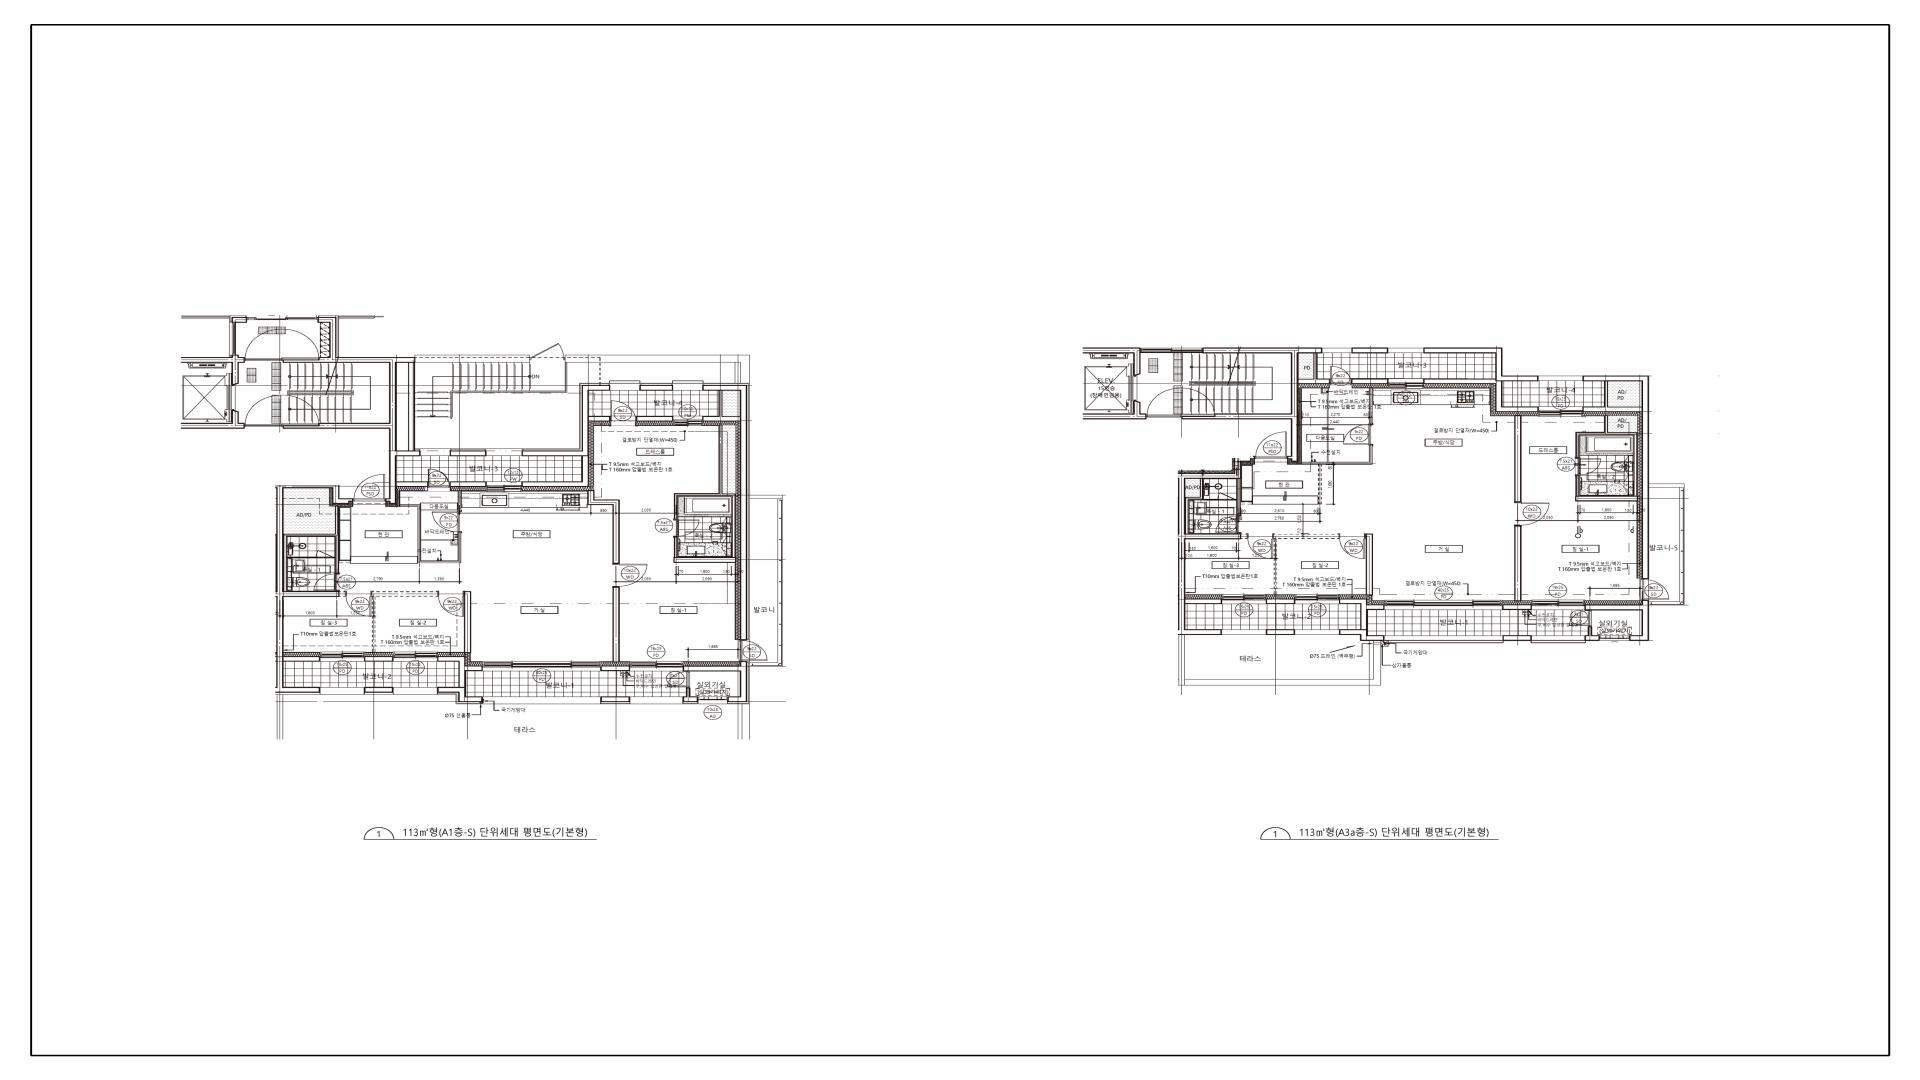door: (245, 328, 282, 361), (245, 396, 284, 427), (1146, 388, 1182, 419), (612, 563, 647, 588), (1255, 431, 1287, 459), (353, 473, 385, 501), (1514, 502, 1549, 526), (345, 591, 372, 617), (438, 591, 464, 617), (1338, 534, 1366, 559), (1342, 423, 1373, 446), (1247, 534, 1274, 559), (611, 401, 637, 426), (738, 640, 767, 662), (431, 512, 462, 533), (530, 343, 566, 360), (1642, 579, 1669, 600), (1215, 516, 1242, 534), (674, 518, 699, 538), (1576, 458, 1602, 476), (314, 572, 340, 591), (1329, 365, 1352, 385), (429, 468, 451, 488), (667, 671, 690, 688), (1568, 611, 1592, 626), (1217, 492, 1236, 501), (315, 550, 335, 558)
wall: (282, 316, 530, 504), (1582, 376, 1685, 641), (276, 485, 353, 692), (1182, 347, 1321, 462), (1178, 456, 1255, 636), (703, 385, 748, 641), (674, 425, 736, 563), (522, 385, 609, 456), (750, 495, 783, 667), (564, 355, 750, 384), (1576, 415, 1638, 501), (284, 506, 339, 591), (1302, 444, 1373, 505), (372, 592, 438, 653), (1424, 378, 1539, 413), (1274, 534, 1338, 595), (1424, 348, 1539, 381), (400, 504, 462, 563), (683, 662, 748, 703), (587, 491, 620, 563), (522, 456, 589, 487), (181, 355, 245, 385), (1582, 381, 1642, 413), (1185, 479, 1218, 534), (1083, 348, 1141, 376), (1340, 599, 1385, 629), (438, 657, 483, 687), (1083, 400, 1146, 419), (181, 410, 245, 429), (703, 390, 740, 422), (1298, 353, 1329, 384), (436, 687, 483, 703), (407, 363, 415, 451), (1514, 415, 1522, 502), (1514, 526, 1522, 601), (1340, 629, 1385, 641), (613, 588, 620, 662), (1366, 534, 1373, 596), (464, 591, 471, 653), (683, 687, 699, 703), (450, 481, 487, 488), (637, 415, 673, 422), (1585, 626, 1600, 641), (450, 451, 487, 456), (1236, 479, 1241, 516), (1352, 348, 1389, 353), (284, 657, 320, 662), (181, 315, 229, 319), (601, 696, 630, 703), (1266, 629, 1295, 636), (1352, 378, 1387, 384), (1185, 599, 1221, 604), (1503, 604, 1531, 611), (641, 385, 673, 390), (397, 481, 429, 487), (364, 687, 393, 692), (1266, 599, 1295, 604), (1503, 636, 1532, 641), (601, 666, 630, 671), (364, 657, 393, 662), (1369, 388, 1373, 423), (339, 315, 375, 319), (589, 415, 611, 422), (232, 316, 247, 323), (458, 491, 462, 512), (1241, 534, 1247, 539)
window: (1385, 600, 1503, 611), (483, 662, 601, 671), (483, 696, 601, 704), (1385, 636, 1503, 644), (1531, 600, 1585, 611), (630, 662, 683, 671), (393, 651, 438, 662), (1539, 406, 1584, 417), (320, 651, 364, 662), (630, 696, 683, 704), (1532, 636, 1585, 644), (1295, 595, 1340, 604), (1221, 595, 1266, 604), (1141, 347, 1203, 353), (1387, 378, 1424, 389), (487, 481, 522, 492), (320, 687, 364, 695), (393, 687, 436, 695), (673, 415, 703, 426), (1295, 629, 1340, 636), (673, 381, 704, 390), (609, 381, 641, 390), (1222, 629, 1266, 636), (487, 448, 522, 456), (421, 448, 450, 456), (699, 696, 728, 704), (1539, 376, 1582, 381), (229, 323, 236, 355), (1389, 348, 1424, 353), (1321, 348, 1352, 353), (1600, 636, 1630, 641)
